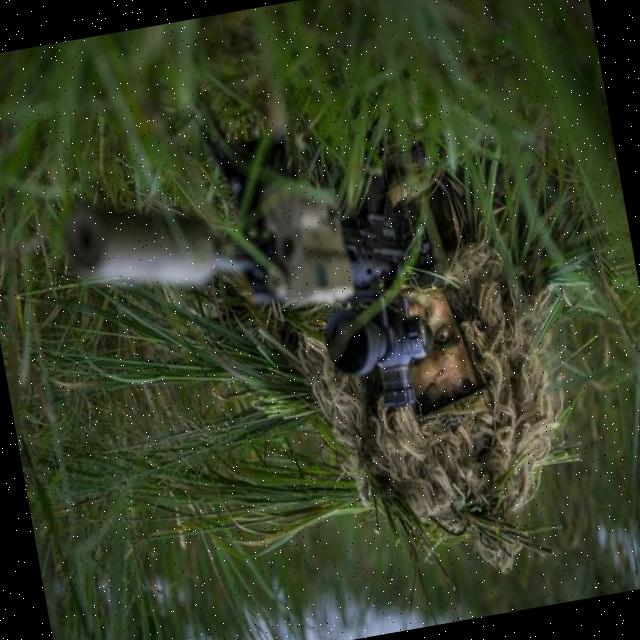Sniper: (48, 101, 476, 479)
